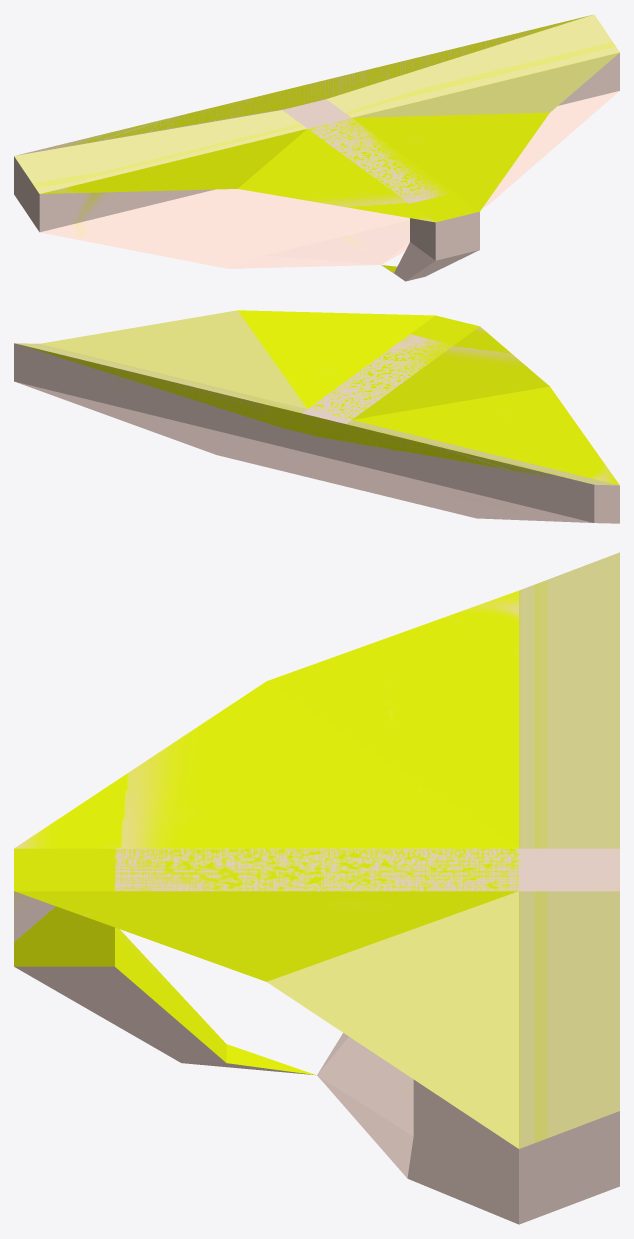
File: Glider.glb
3 views of the same model, one above another, from view 1: azimuth 30°, elevation 25°; view 2: azimuth 150°, elevation 25°; view 3: azimuth 270°, elevation 25° (orthographic). The views are drawn at different scales.
Visible parts, largest first — view 1: Plane; view 2: Plane; view 3: Plane.
Part boxes in pixels (x1,y1,x2,y2): Plane: (14, 14, 619, 281); Plane: (14, 310, 619, 523); Plane: (14, 552, 619, 1224).
Bounding box in the file's own units: 26.19 × 5.33 × 12.01.
Materials: 1 (1 with a texture image).
